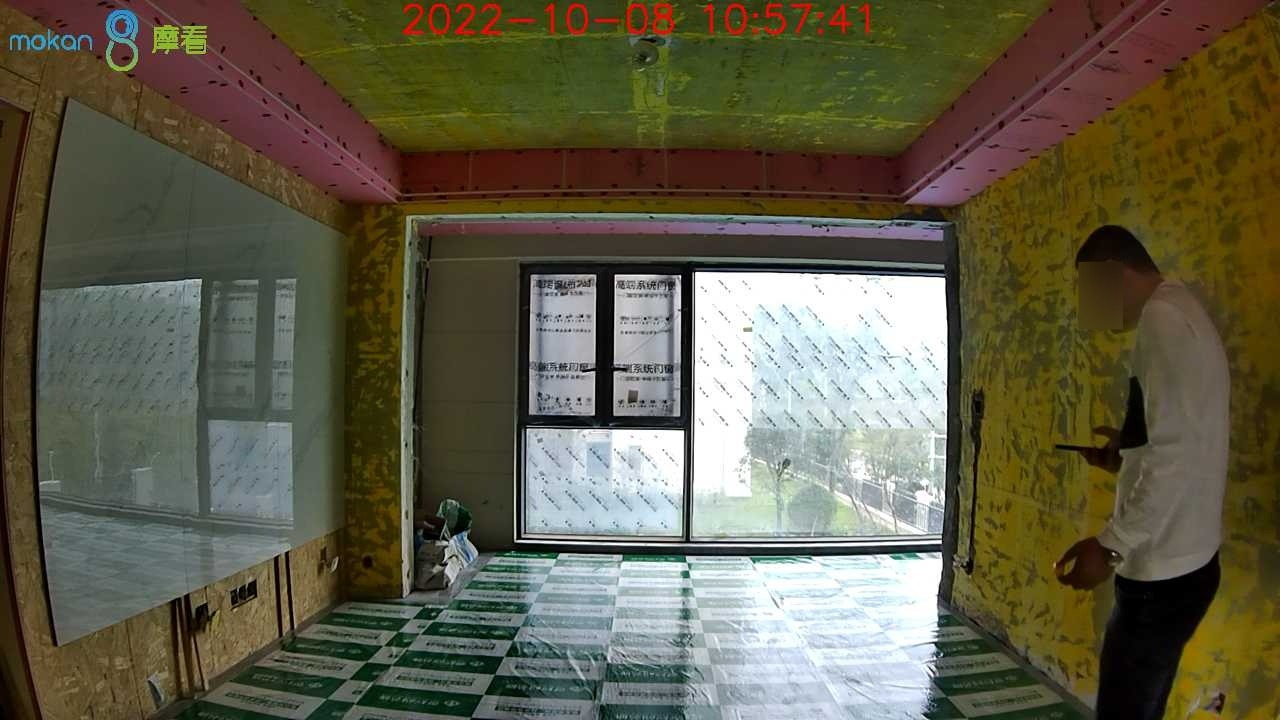people: (1053, 223, 1231, 720)
window: (520, 265, 950, 551)
